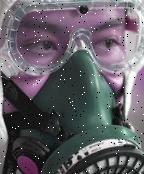with_mask: (2, 1, 144, 174)
